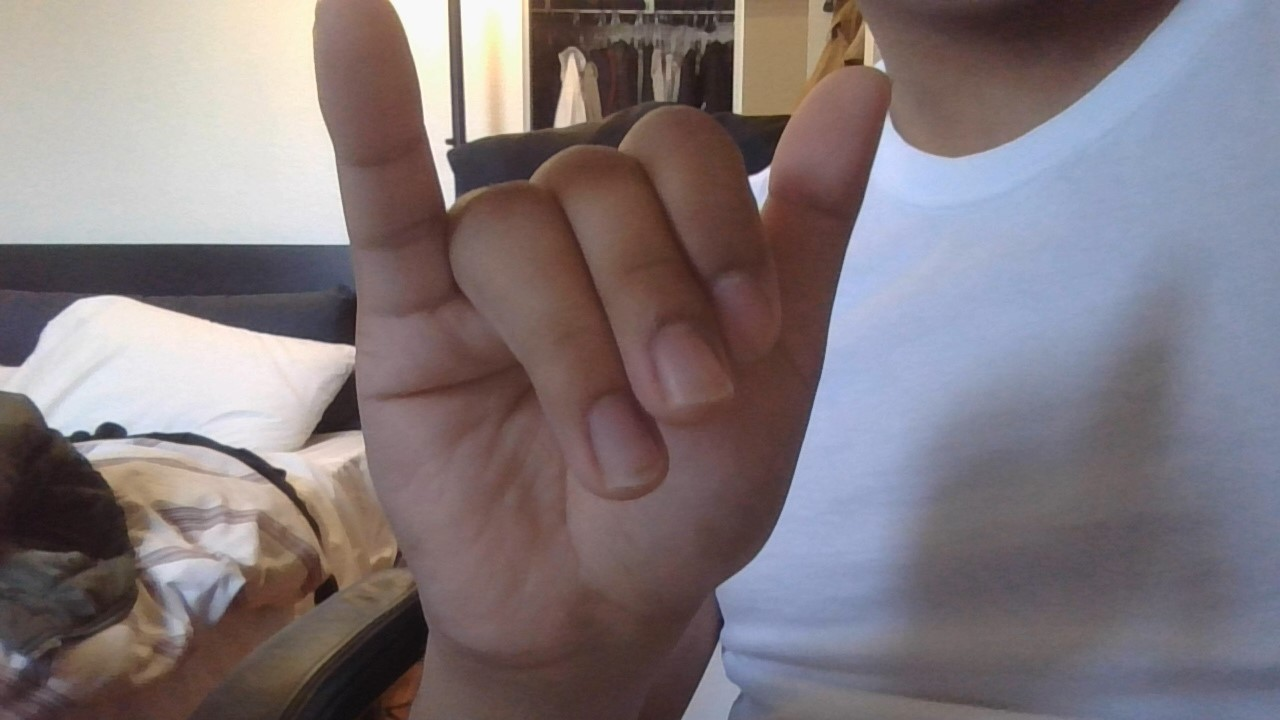y: (259, 1, 905, 676)
